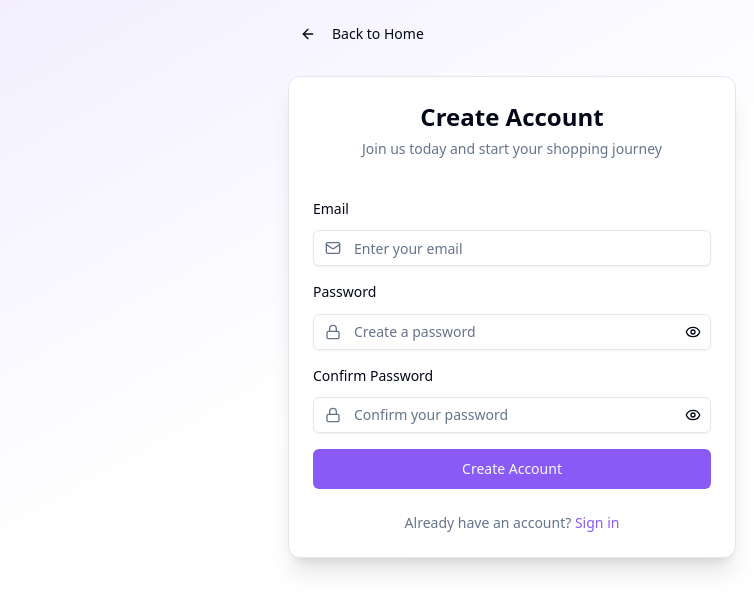
Test: RegisterForm › shows error message when registration fails
Note: Use credentials that will trigger error
Type "existing@example.com" into the field with placeholder "Enter your email" at {"x": 512, "y": 248}, box x1=313 y1=230 x2=711 y2=266
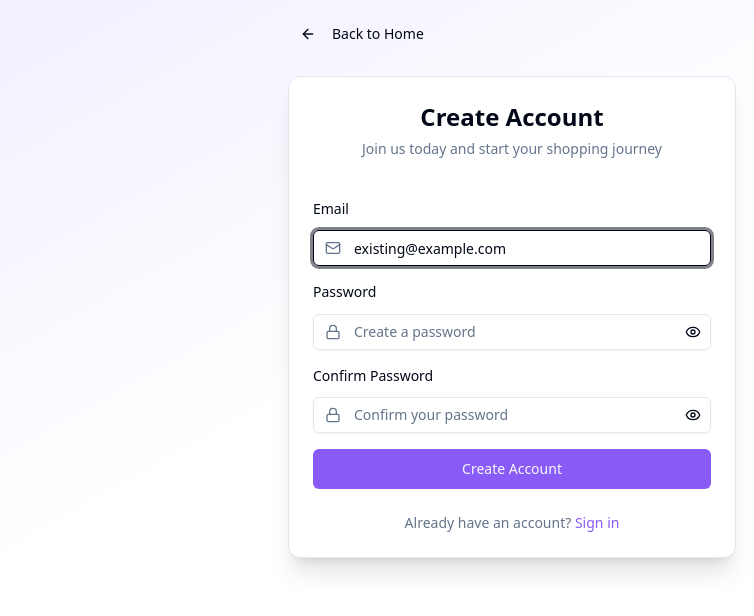
Type "password123" into the password field with placeholder "Create a password" at {"x": 512, "y": 332}, box x1=313 y1=314 x2=711 y2=350
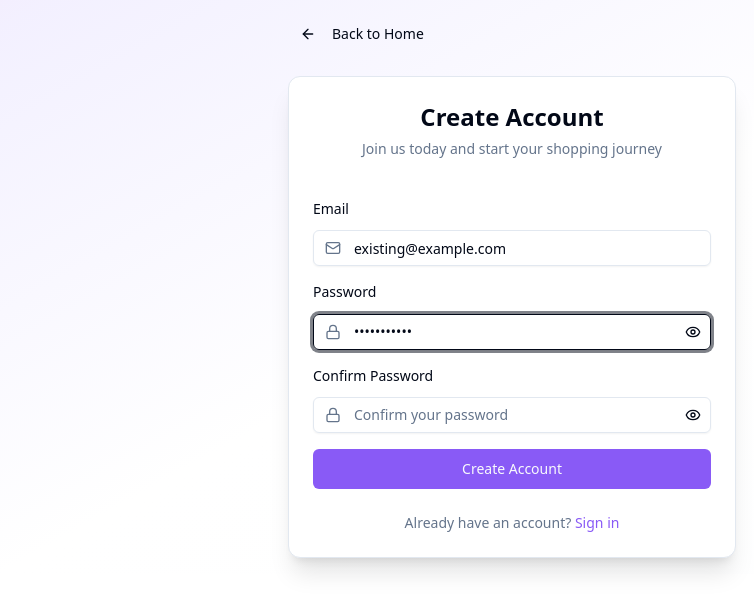
Type "password123" into the password field with placeholder "Confirm your password" at {"x": 512, "y": 415}, box x1=313 y1=397 x2=711 y2=433
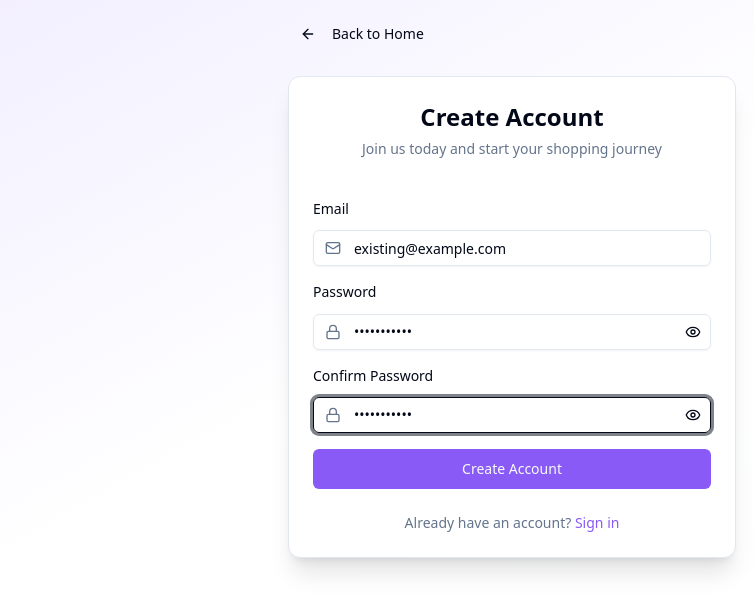
Note: Submit form
Click the button "Create Account" at {"x": 512, "y": 469}, box x1=313 y1=449 x2=711 y2=489
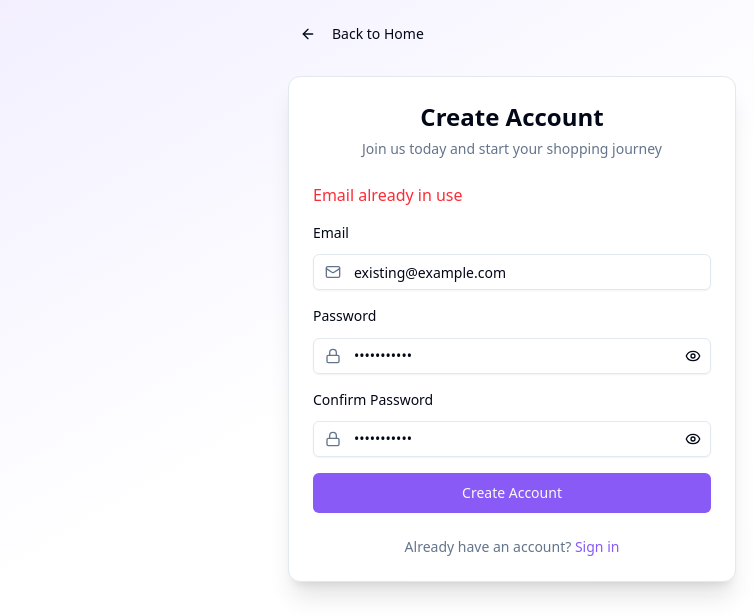
Check: the text "Email already in use" is shown, box x1=313 y1=184 x2=463 y2=206
